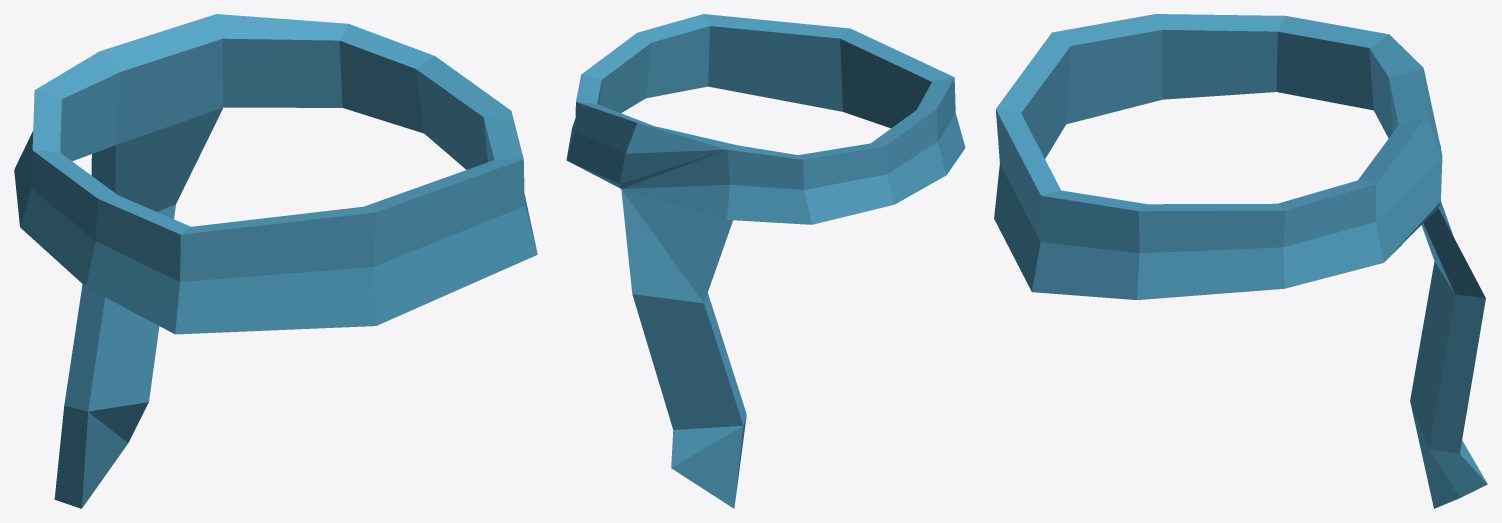
The model's file is Bandana.fbx.
The picture shows the model from 3 angles, left to right: view 1: azimuth 30°, elevation 25°; view 2: azimuth 150°, elevation 25°; view 3: azimuth 270°, elevation 25°; orthographic projection. The views are drawn at different scales.
Parts seen in each view (by area): view 1: Bandana; view 2: Bandana; view 3: Bandana.
Boxes of the visible parts, x1,y1,x2,y2 form: Bandana: (14,14,537,508); Bandana: (566,14,965,508); Bandana: (994,14,1487,508).
Size of the model in its own units: 3.6 by 3.73 by 3.67.
